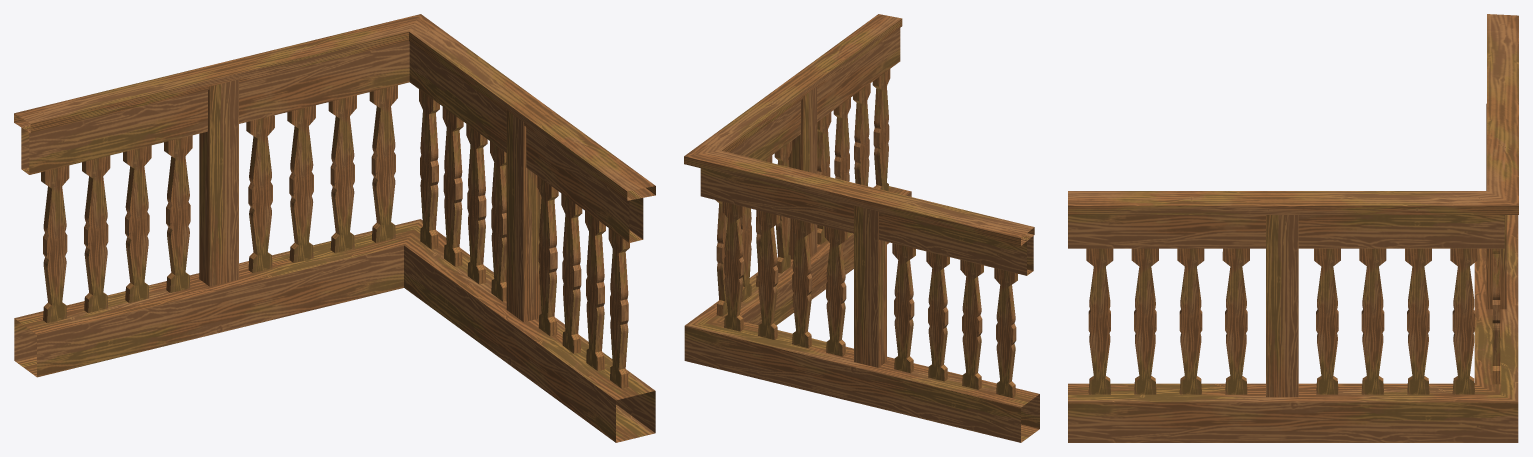
Rendered from Balcony_Simple_Corner.obj.
The picture shows the model from 3 angles, left to right: view 1: azimuth 30°, elevation 25°; view 2: azimuth 150°, elevation 25°; view 3: azimuth 270°, elevation 25°; orthographic projection. The views are drawn at different scales.
Visible parts, largest first — view 1: Balcony_Simple_Corner; view 2: Balcony_Simple_Corner; view 3: Balcony_Simple_Corner.
Part boxes in pixels (<box>): Balcony_Simple_Corner: <box>14,14,655,442</box>; Balcony_Simple_Corner: <box>684,14,1039,442</box>; Balcony_Simple_Corner: <box>1068,14,1518,442</box>.
Bounding box in the file's own units: 2.1 × 1.23 × 2.1.
